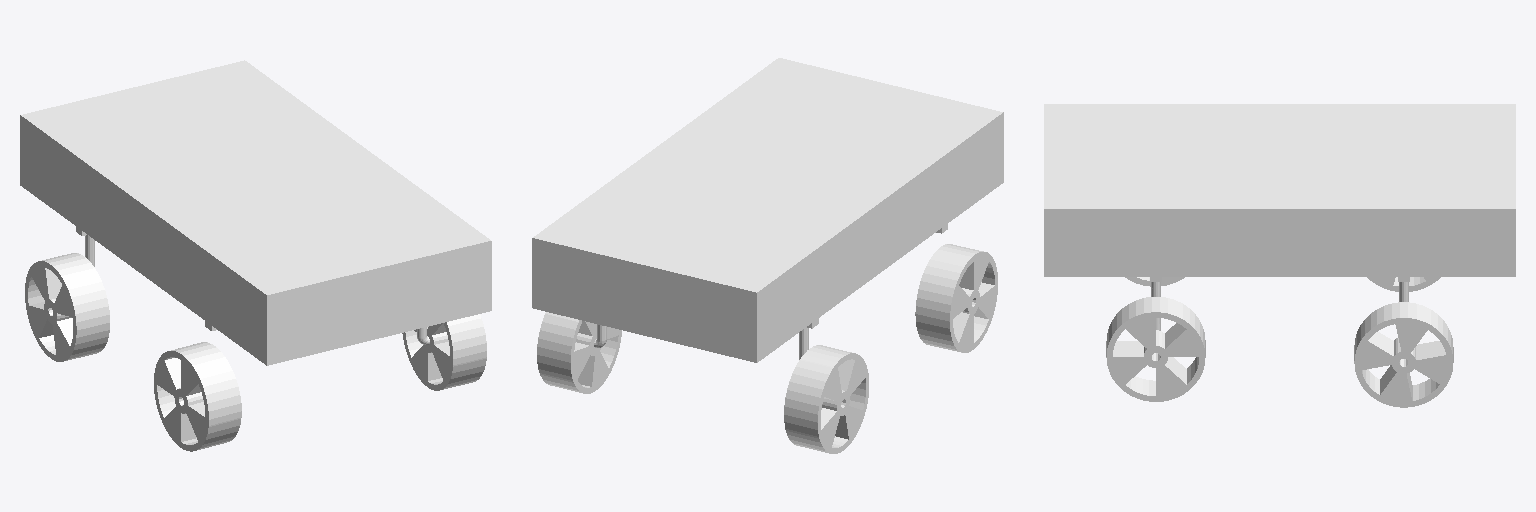
robot.urdf — robot:
<?xml version="1.0" encoding="utf-8"?>
<!-- This URDF was automatically created by SolidWorks to URDF Exporter! Originally created by [author] ([email redacted]) 
     Commit Version: 1.6.0-4-g7f85cfe  Build Version: 1.6.7995.38578
     For more information, please see http://wiki.ros.org/sw_urdf_exporter -->
<robot
  name="robot">
  <link
    name="chassis_link">
    <inertial>
      <origin
        xyz="0.328145167208003 0.631963802572858 0.722481615855646"
        rpy="0 0 0" />
      <mass
        value="28.5675482792605" />
      <inertia
        ixx="3.6946914856107"
        ixy="-4.45694687956391E-15"
        ixz="4.35859095088725E-16"
        iyy="4.32558875357129"
        iyz="9.62117326446397E-17"
        izz="0.797738644973051" />
    </inertial>
    <visual>
      <origin
        xyz="0 0 0"
        rpy="0 0 0" />
      <geometry>
        <mesh
          filename="package://robot/meshes/chassis_link.STL" />
      </geometry>
      <material
        name="">
        <color
          rgba="1 1 1 1" />
      </material>
    </visual>
    <collision>
      <origin
        xyz="0 0 0"
        rpy="0 0 0" />
      <geometry>
        <mesh
          filename="package://robot/meshes/chassis_link.STL" />
      </geometry>
    </collision>
  </link>
  <link
    name="front_axle">
    <inertial>
      <origin
        xyz="2.22044604925031E-16 -0.00330067603755158 0"
        rpy="0 0 0" />
      <mass
        value="0.21407335442569" />
      <inertia
        ixx="0.00010694118181495"
        ixy="2.7885324538738E-17"
        ixz="2.84896355681426E-18"
        iyy="0.00412680015957867"
        iyz="-1.91856617812422E-21"
        izz="0.0042131304632487" />
    </inertial>
    <visual>
      <origin
        xyz="0 0 0"
        rpy="0 0 0" />
      <geometry>
        <mesh
          filename="package://robot/meshes/front_axle.STL" />
      </geometry>
      <material
        name="">
        <color
          rgba="1 1 1 0.35" />
      </material>
    </visual>
    <collision>
      <origin
        xyz="0 0 0"
        rpy="0 0 0" />
      <geometry>
        <mesh
          filename="package://robot/meshes/front_axle.STL" />
      </geometry>
    </collision>
  </link>
  <joint
    name="front__axle_joint"
    type="fixed">
    <origin
      xyz="0.32815 -0.97648 0.55573"
      rpy="-1.5708 0 0" />
    <parent
      link="chassis_link" />
    <child
      link="front_axle" />
    <axis
      xyz="0 0 0" />
  </joint>
  <link
    name="front_right_link">
    <inertial>
      <origin
        xyz="-0.058668365874023 0.00646808125522669 -1.11022302462516E-16"
        rpy="0 0 0" />
      <mass
        value="0.0603084496217951" />
      <inertia
        ixx="1.31837584191162E-05"
        ixy="-2.28850511263034E-05"
        ixz="-7.74259730584572E-20"
        iyy="0.000153926609053992"
        iyz="-7.051651492668E-21"
        izz="0.000164374606580749" />
    </inertial>
    <visual>
      <origin
        xyz="0 0 0"
        rpy="0 0 0" />
      <geometry>
        <mesh
          filename="package://robot/meshes/front_right_link.STL" />
      </geometry>
      <material
        name="">
        <color
          rgba="1 1 1 0.35" />
      </material>
    </visual>
    <collision>
      <origin
        xyz="0 0 0"
        rpy="0 0 0" />
      <geometry>
        <mesh
          filename="package://robot/meshes/front_right_link.STL" />
      </geometry>
    </collision>
  </link>
  <joint
    name="front_right_link_joint"
    type="revolute">
    <origin
      xyz="0.2286 0.1524 0"
      rpy="3.1416 0 1.5708" />
    <parent
      link="front_axle" />
    <child
      link="front_right_link" />
    <axis
      xyz="0 0 0" />
    <limit
      lower="-45"
      upper="45"
      effort="0"
      velocity="0" />
  </joint>
  <link
    name="front_right_wheel">
    <inertial>
      <origin
        xyz="-5.55111512312578E-17 0.0381 0"
        rpy="0 0 0" />
      <mass
        value="1.6912872736551" />
      <inertia
        ixx="0.00565471643088111"
        ixy="-5.17192084866667E-18"
        ixz="1.77930499547581E-17"
        iyy="0.00967270651555524"
        iyz="-3.04550745131093E-18"
        izz="0.00565471643088112" />
    </inertial>
    <visual>
      <origin
        xyz="0 0 0"
        rpy="0 0 0" />
      <geometry>
        <mesh
          filename="package://robot/meshes/front_right_wheel.STL" />
      </geometry>
      <material
        name="">
        <color
          rgba="1 1 1 0.35" />
      </material>
    </visual>
    <collision>
      <origin
        xyz="0 0 0"
        rpy="0 0 0" />
      <geometry>
        <mesh
          filename="package://robot/meshes/front_right_wheel.STL" />
      </geometry>
    </collision>
  </link>
  <joint
    name="front_right_wheel_joint"
    type="continuous">
    <origin
      xyz="0 0.0889 0"
      rpy="0 0 3.1416" />
    <parent
      link="front_right_link" />
    <child
      link="front_right_wheel" />
    <axis
      xyz="0 0 0" />
  </joint>
  <link
    name="front_left_link">
    <inertial>
      <origin
        xyz="-0.0586683658740229 0.0064680812552268 1.11022302462516E-16"
        rpy="0 0 0" />
      <mass
        value="0.0603084496217952" />
      <inertia
        ixx="1.3183758419116E-05"
        ixy="-2.2885051126303E-05"
        ixz="3.8532669788813E-20"
        iyy="0.000153926609053992"
        iyz="-1.31290106824417E-20"
        izz="0.000164374606580749" />
    </inertial>
    <visual>
      <origin
        xyz="0 0 0"
        rpy="0 0 0" />
      <geometry>
        <mesh
          filename="package://robot/meshes/front_left_link.STL" />
      </geometry>
      <material
        name="">
        <color
          rgba="1 1 1 0.35" />
      </material>
    </visual>
    <collision>
      <origin
        xyz="0 0 0"
        rpy="0 0 0" />
      <geometry>
        <mesh
          filename="package://robot/meshes/front_left_link.STL" />
      </geometry>
    </collision>
  </link>
  <joint
    name="front_left_link_joint"
    type="revolute">
    <origin
      xyz="-0.2286 0.1524 0"
      rpy="-0.037432 0 1.5708" />
    <parent
      link="front_axle" />
    <child
      link="front_left_link" />
    <axis
      xyz="0 0 0" />
    <limit
      lower="-45"
      upper="45"
      effort="0"
      velocity="0" />
  </joint>
  <link
    name="front_left_wheel">
    <inertial>
      <origin
        xyz="-1.11022302462516E-16 0.0408000000000001 -2.22044604925031E-16"
        rpy="0 0 0" />
      <mass
        value="1.6912872736551" />
      <inertia
        ixx="0.00565471643088111"
        ixy="-5.88433788457562E-18"
        ixz="1.79452400205296E-17"
        iyy="0.00967270651555523"
        iyz="-1.08013641433868E-17"
        izz="0.00565471643088111" />
    </inertial>
    <visual>
      <origin
        xyz="0 0 0"
        rpy="0 0 0" />
      <geometry>
        <mesh
          filename="package://robot/meshes/front_left_wheel.STL" />
      </geometry>
      <material
        name="">
        <color
          rgba="1 1 1 0.35" />
      </material>
    </visual>
    <collision>
      <origin
        xyz="0 0 0"
        rpy="0 0 0" />
      <geometry>
        <mesh
          filename="package://robot/meshes/front_left_wheel.STL" />
      </geometry>
    </collision>
  </link>
  <joint
    name="front_left_wheel_joint"
    type="continuous">
    <origin
      xyz="0 0.01 0"
      rpy="3.1416 0.0027121 3.1416" />
    <parent
      link="front_left_link" />
    <child
      link="front_left_wheel" />
    <axis
      xyz="0 0 0" />
  </joint>
  <link
    name="back_axle">
    <inertial>
      <origin
        xyz="3.33066907387547E-16 0.0355687913493262 5.55111512312578E-17"
        rpy="0 0 0" />
      <mass
        value="0.326434896959164" />
      <inertia
        ixx="0.00128767857807481"
        ixy="6.77092858224095E-17"
        ixz="2.84356702671679E-18"
        iyy="0.0106988048504704"
        iyz="4.40908100010494E-20"
        izz="0.0119612848563425" />
    </inertial>
    <visual>
      <origin
        xyz="0 0 0"
        rpy="0 0 0" />
      <geometry>
        <mesh
          filename="package://robot/meshes/back_axle.STL" />
      </geometry>
      <material
        name="">
        <color
          rgba="1 1 1 1" />
      </material>
    </visual>
    <collision>
      <origin
        xyz="0 0 0"
        rpy="0 0 0" />
      <geometry>
        <mesh
          filename="package://robot/meshes/back_axle.STL" />
      </geometry>
    </collision>
  </link>
  <joint
    name="back_axle_joint"
    type="fixed">
    <origin
      xyz="0.32815 -0.46848 0.55573"
      rpy="-1.5708 0 0" />
    <parent
      link="chassis_link" />
    <child
      link="back_axle" />
    <axis
      xyz="0 0 0" />
  </joint>
  <link
    name="back_left_wheel">
    <inertial>
      <origin
        xyz="1.11022302462516E-16 -0.0381000000000018 -2.22044604925031E-16"
        rpy="0 0 0" />
      <mass
        value="1.6912872736551" />
      <inertia
        ixx="0.0056547164308811"
        ixy="2.71322254921917E-18"
        ixz="1.89735380184963E-17"
        iyy="0.00967270651555522"
        iyz="5.11933311497944E-18"
        izz="0.0056547164308811" />
    </inertial>
    <visual>
      <origin
        xyz="0 0 0"
        rpy="0 0 0" />
      <geometry>
        <mesh
          filename="package://robot/meshes/back_left_wheel.STL" />
      </geometry>
      <material
        name="">
        <color
          rgba="1 1 1 0.35" />
      </material>
    </visual>
    <collision>
      <origin
        xyz="0 0 0"
        rpy="0 0 0" />
      <geometry>
        <mesh
          filename="package://robot/meshes/back_left_wheel.STL" />
      </geometry>
    </collision>
  </link>
  <joint
    name="back_left_wheel_joint"
    type="continuous">
    <origin
      xyz="-0.2413 0.1651 0"
      rpy="0 1.3251 -1.5708" />
    <parent
      link="back_axle" />
    <child
      link="back_left_wheel" />
    <axis
      xyz="0 1 0" />
  </joint>
  <link
    name="back_right_wheel">
    <inertial>
      <origin
        xyz="7.7715611723761E-16 -0.0381000000000019 2.4980018054066E-15"
        rpy="0 0 0" />
      <mass
        value="1.6912872736551" />
      <inertia
        ixx="0.00565471643088111"
        ixy="-3.21237594726728E-18"
        ixz="1.86482773667507E-17"
        iyy="0.00967270651555523"
        iyz="4.19840051387123E-18"
        izz="0.00565471643088111" />
    </inertial>
    <visual>
      <origin
        xyz="0 0 0"
        rpy="0 0 0" />
      <geometry>
        <mesh
          filename="package://robot/meshes/back_right_wheel.STL" />
      </geometry>
      <material
        name="">
        <color
          rgba="1 1 1 0.35" />
      </material>
    </visual>
    <collision>
      <origin
        xyz="0 0 0"
        rpy="0 0 0" />
      <geometry>
        <mesh
          filename="package://robot/meshes/back_right_wheel.STL" />
      </geometry>
    </collision>
  </link>
  <joint
    name="back_right_wheel_link"
    type="continuous">
    <origin
      xyz="0.2413 0.1651 0"
      rpy="3.1416 0.98435 -1.5708" />
    <parent
      link="back_axle" />
    <child
      link="back_right_wheel" />
    <axis
      xyz="0 1 0" />
  </joint>
</robot>

--- What the picture shows (computed from the rendered views, not written in the file) ---
The picture shows the robot from 3 angles, left to right: view 1: azimuth 30°, elevation 25°; view 2: azimuth 150°, elevation 25°; view 3: azimuth 270°, elevation 25°; orthographic projection.
Model robot with 9 links and 8 joints (2 revolute, 4 continuous, 2 fixed), rooted at chassis_link, posed every joint at zero.
Visible links, largest first — view 1: chassis_link, front_left_wheel, back_left_wheel, front_right_wheel; view 2: chassis_link, back_left_wheel, front_left_wheel, back_right_wheel, back_axle; view 3: chassis_link, back_right_wheel, front_right_wheel, back_left_wheel.
Boxes of the visible links, x1=… form: chassis_link: x1=20, y1=60, x2=491, y2=365; front_left_wheel: x1=154, y1=342, x2=241, y2=451; back_left_wheel: x1=25, y1=253, x2=109, y2=361; front_right_wheel: x1=402, y1=314, x2=486, y2=390; chassis_link: x1=532, y1=58, x2=1003, y2=362; back_left_wheel: x1=784, y1=345, x2=868, y2=453; front_left_wheel: x1=915, y1=244, x2=997, y2=352; back_right_wheel: x1=537, y1=312, x2=621, y2=393; back_axle: x1=594, y1=318, x2=818, y2=359; chassis_link: x1=1044, y1=104, x2=1515, y2=276; back_right_wheel: x1=1354, y1=302, x2=1453, y2=407; front_right_wheel: x1=1106, y1=297, x2=1205, y2=401; back_left_wheel: x1=1367, y1=277, x2=1440, y2=291.
Size in the robot's own frame: 0.6387 by 0.9652 by 0.4188 metres.
Meshes: 9 distinct files referenced, 8 mesh visuals loaded (8 binary STL); not drawn: 1 (reference not matched to a file when rendering).